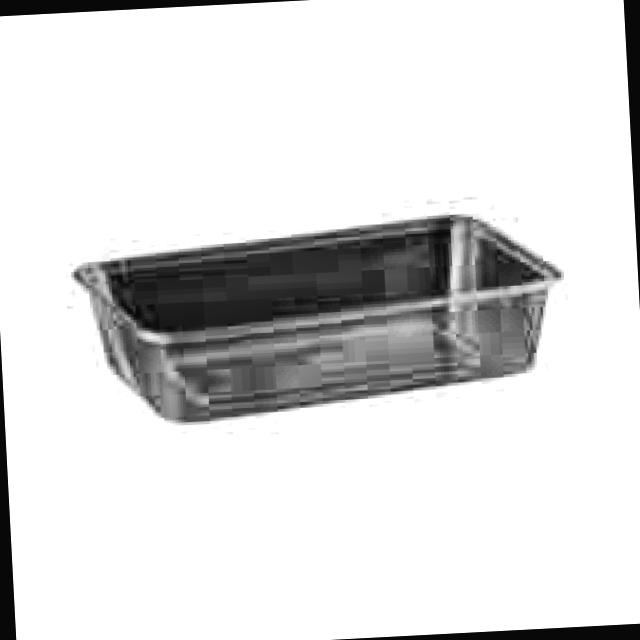plastic container: (80, 215, 560, 419)
